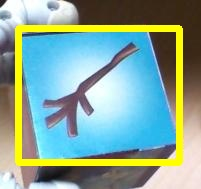Blue4: (18, 28, 179, 162)
